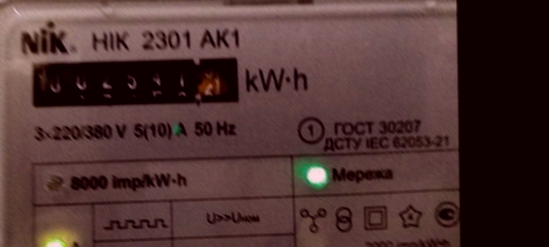0: (43, 68, 62, 94), (71, 64, 86, 92)
1: (171, 61, 185, 88)
2: (95, 64, 112, 89)
4: (147, 62, 161, 86)
5: (120, 63, 139, 91)
6: (199, 78, 214, 96)
screen: (17, 43, 251, 117)
